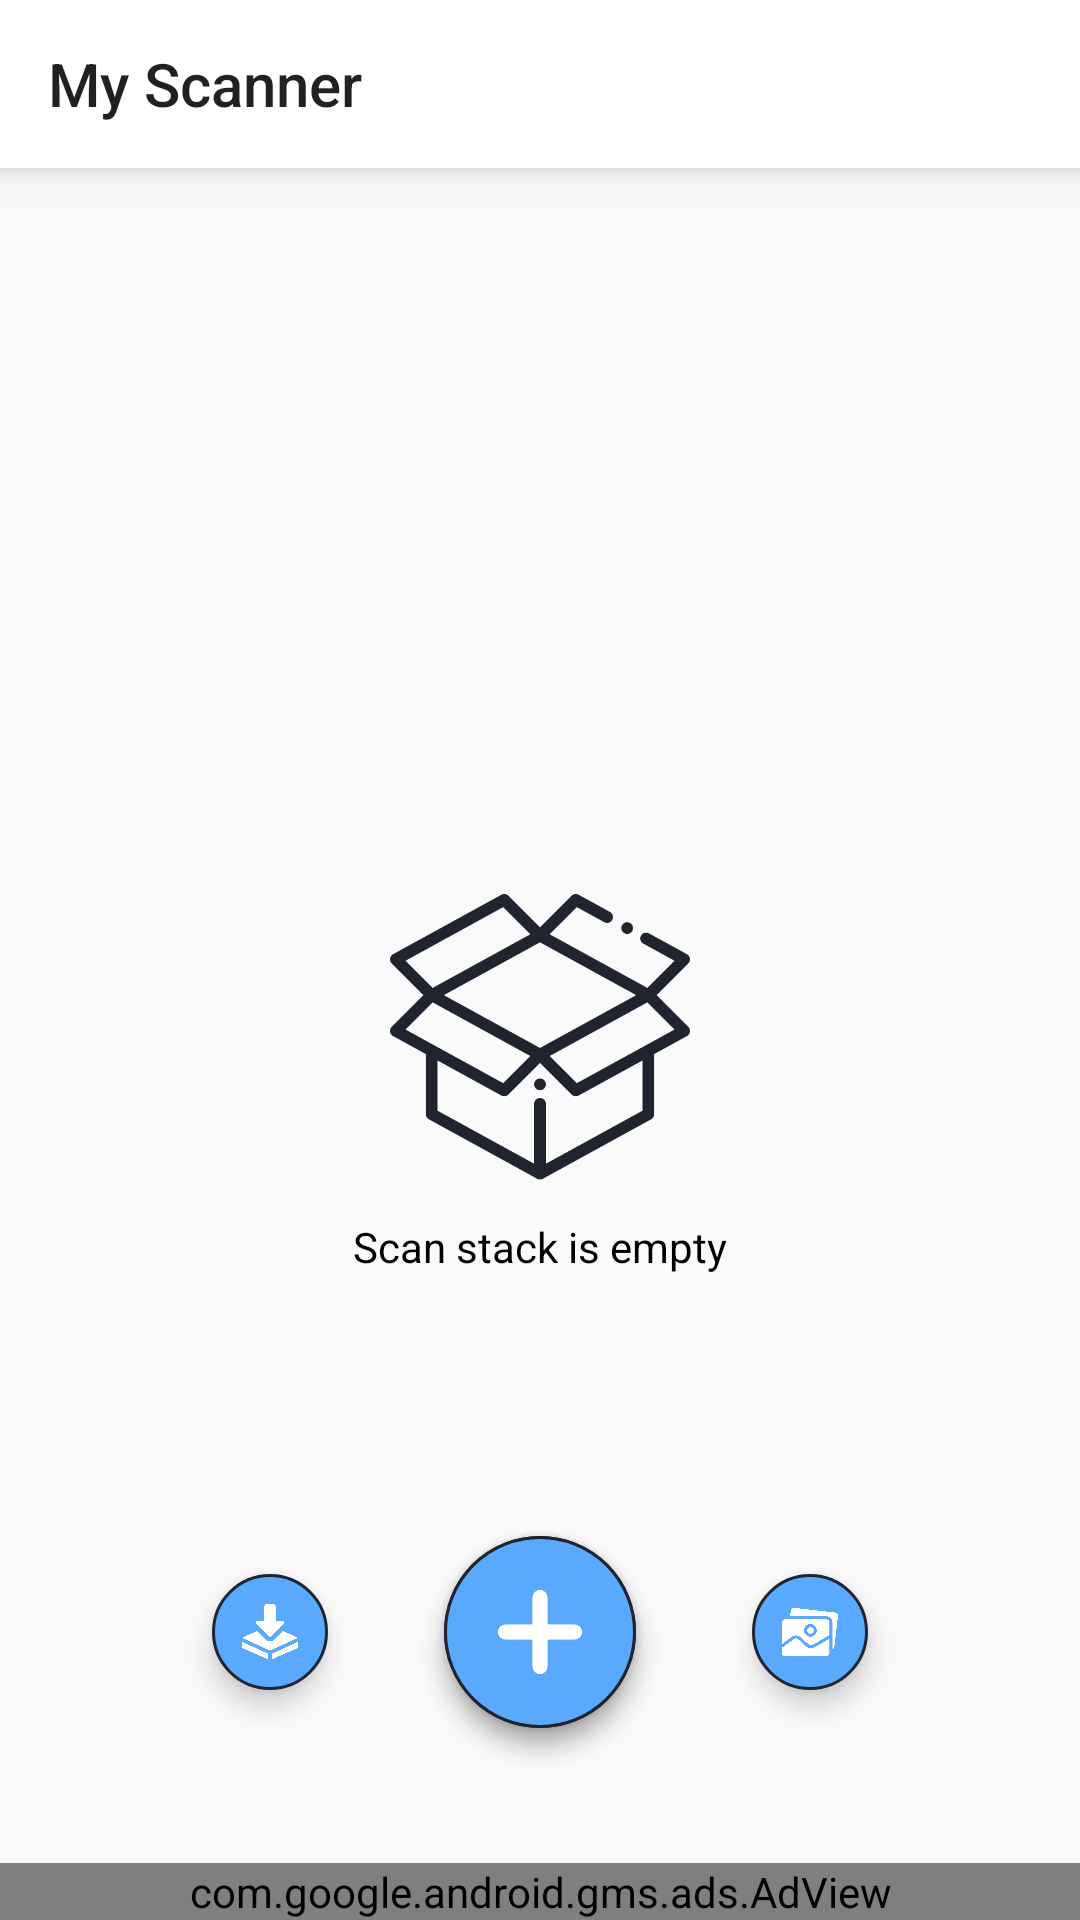

Point at icon controls on the screen. Image size 1080 × 1920, points as (x,y).
download: (270,1632)
gallery: (810,1632)
